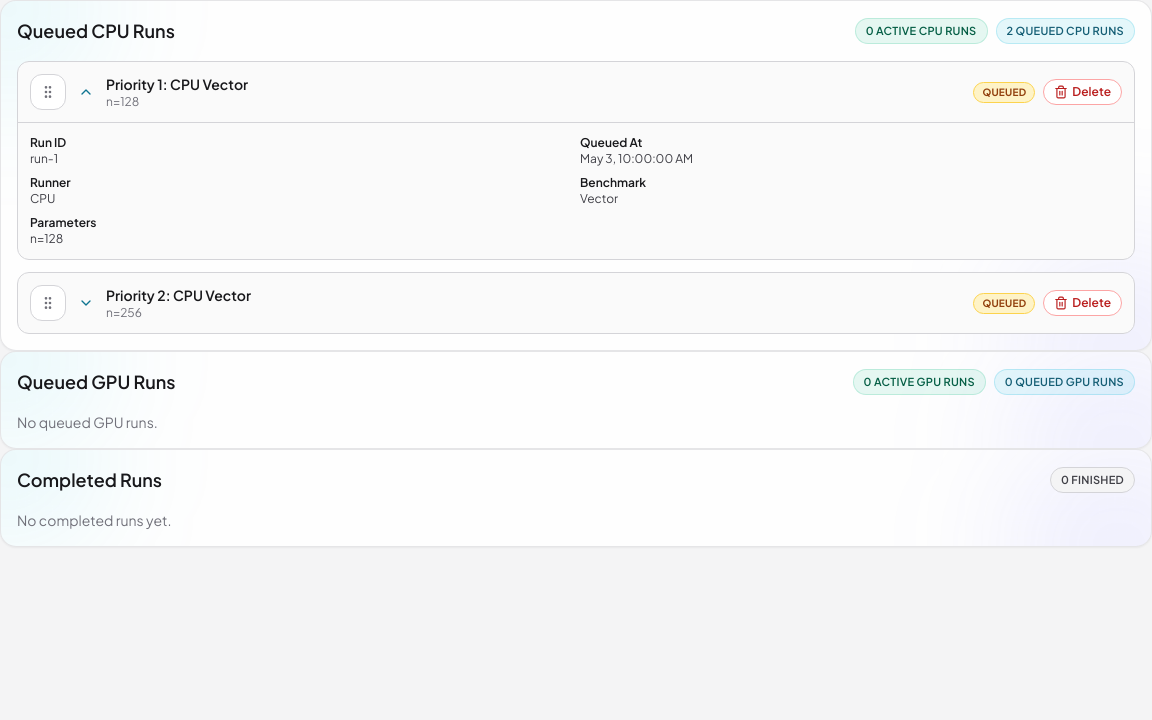
Scenario: InProgressRunsCard › allows multiple run details to be open at the same time
The width and height of the screenshot is (1152, 720).
Click the button "Priority 2: CPU Vector n=256" at [132, 295], box x1=78 y1=285 x2=961 y2=321
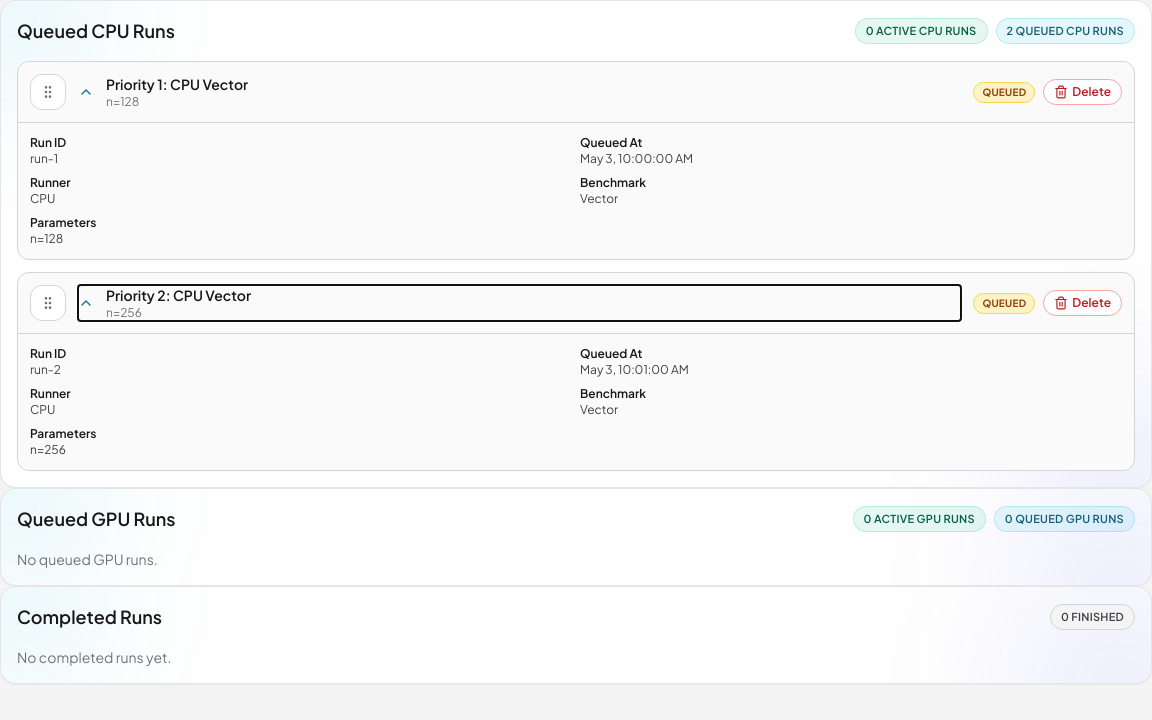
Expected: the text "run-1" is shown, x1=30 y1=151 x2=58 y2=166
Now the text "run-2" is shown, box x1=30 y1=362 x2=61 y2=377
